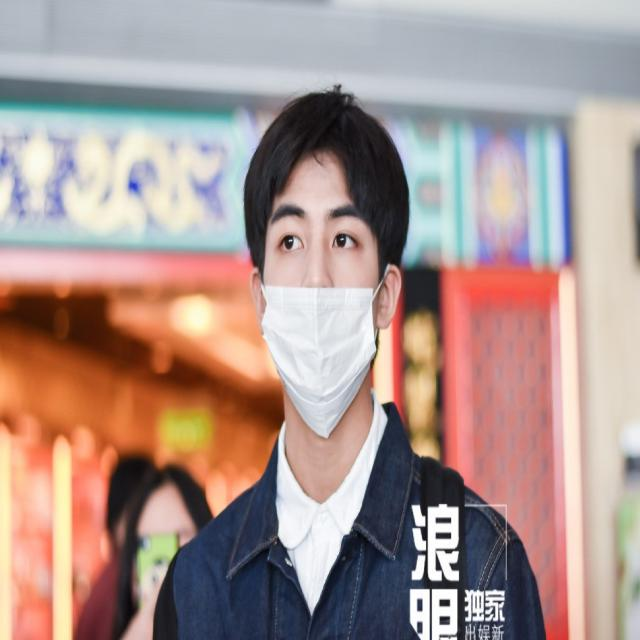mask: (262, 158, 381, 392)
